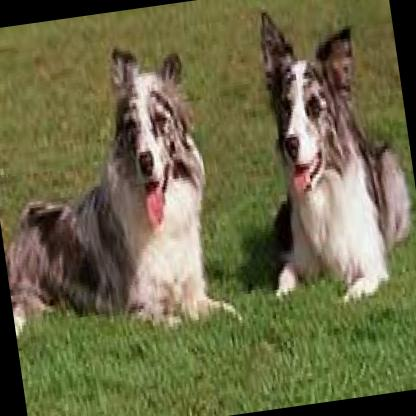Border_collie: (0, 24, 239, 350), (231, 0, 416, 305)
